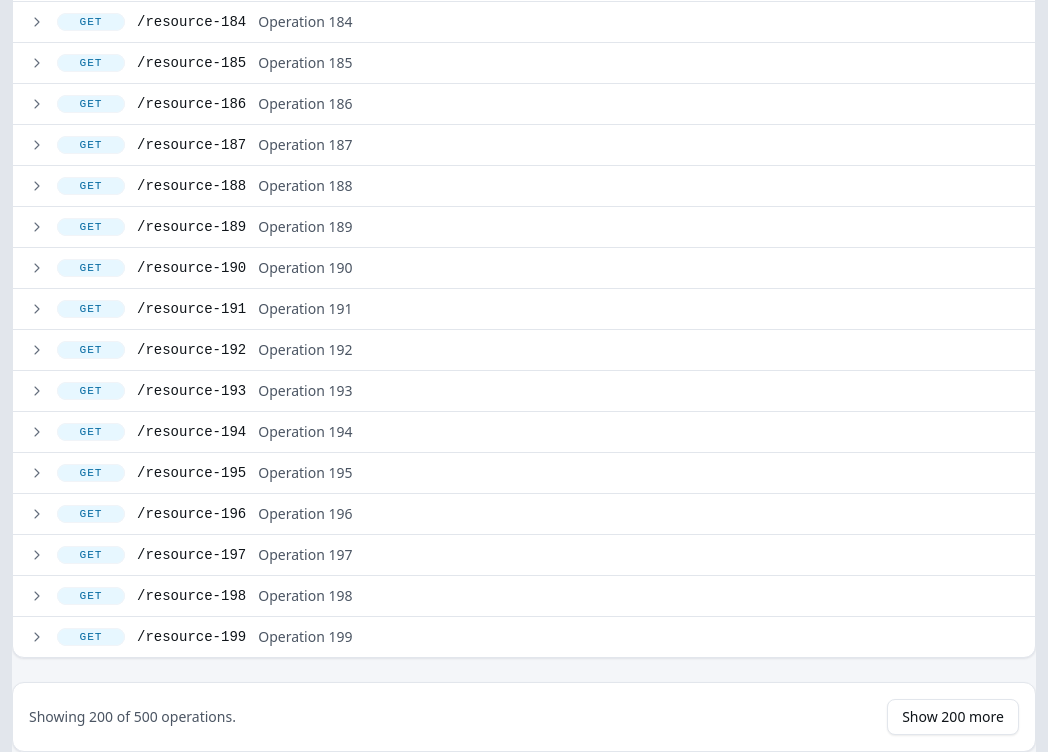
it: OpenApiView operation paging › reveals another page on demand
(page scrolled)
What coordinates should you click on to do the following:
click the button "Show 200 more"
I would click on:
 (953, 717)
Its box is [887,699,1019,735].
(page scrolled)
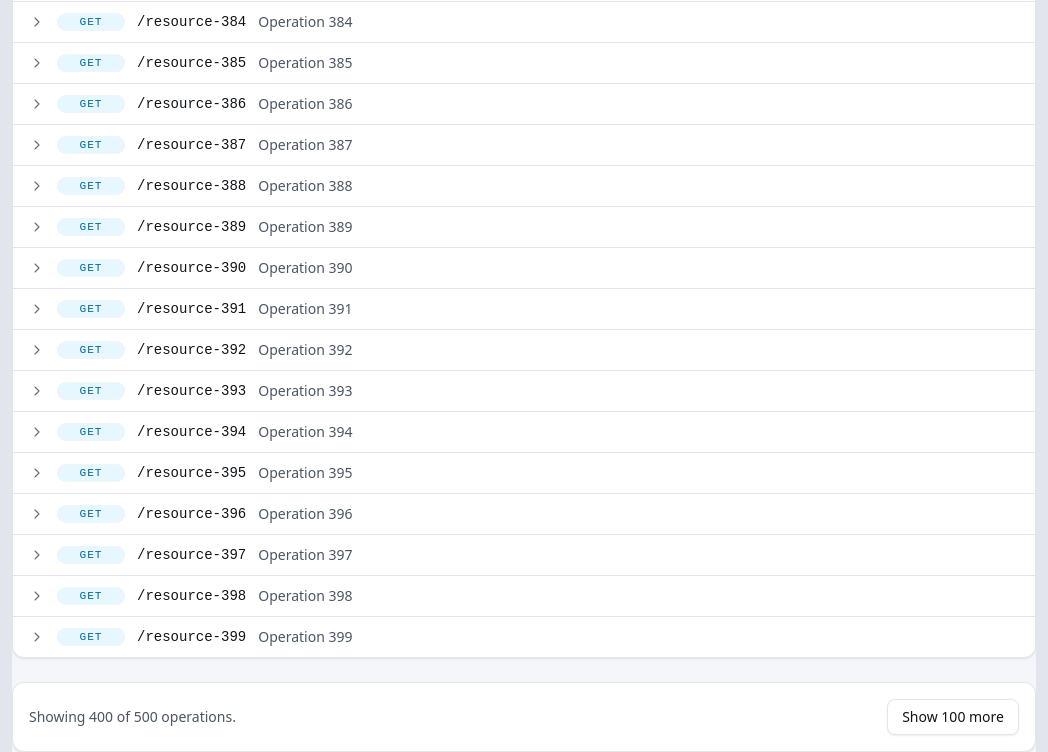
Expected: the text "Showing 400 of 500 operations." is shown, [29,707,236,727]
